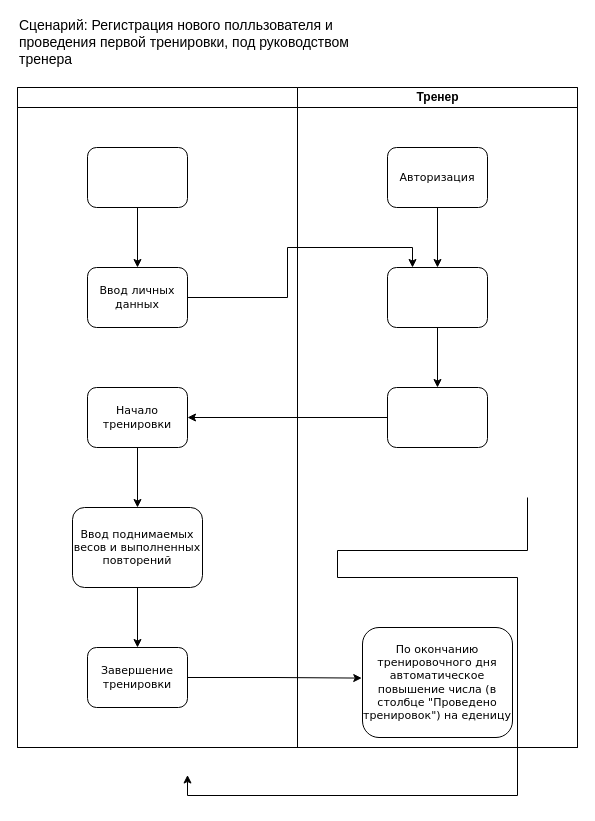
Image size: 595x821. Some labels were removed from this diagram. Here are the shapes that lost their labels. From the top down, the box of each, then its label:
(86, 146, 188, 208): Регистрация
(386, 266, 488, 328): Добавление пользователя в список учеников
(16, 86, 298, 748): Пользователь
(386, 386, 488, 448): Изменение программы тренировок
